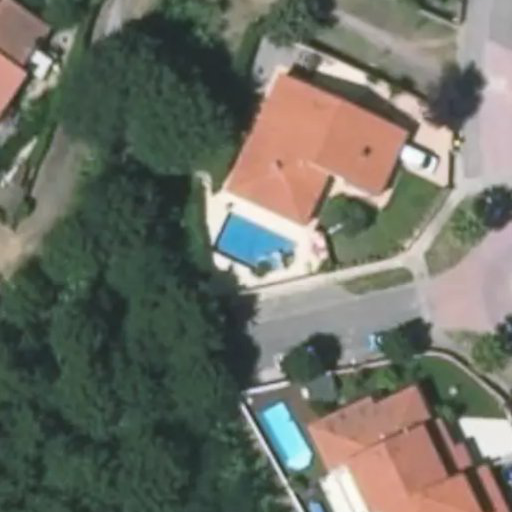pool: (208, 210, 301, 277), (253, 400, 317, 474)
